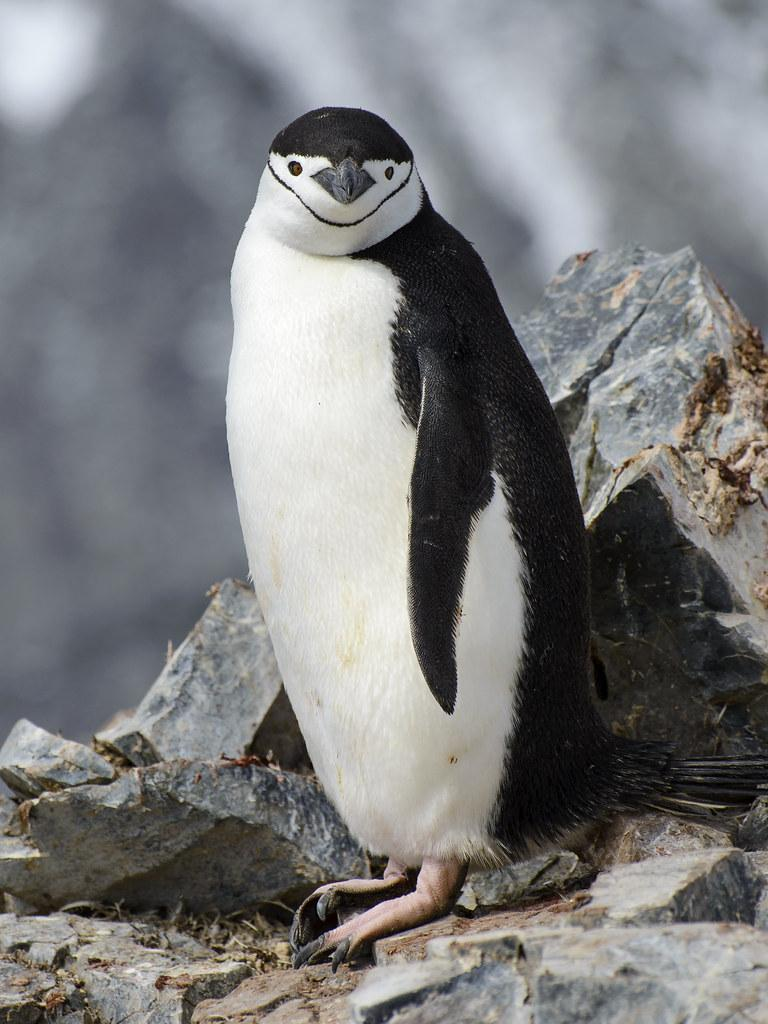chinstrap: (165, 92, 683, 949)
